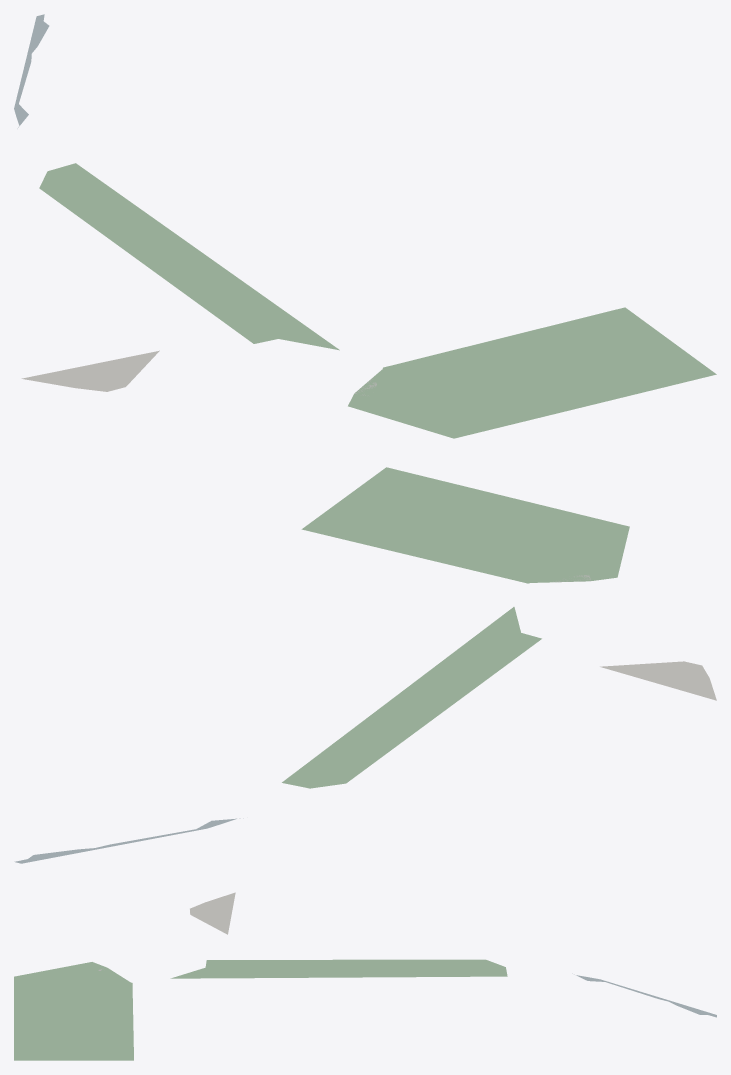
Rendered from 120_125_mid.glb.
The picture shows the model from 3 angles, top to bottom: view 1: azimuth 30°, elevation 25°; view 2: azimuth 150°, elevation 25°; view 3: azimuth 270°, elevation 25°; orthographic projection. The views are drawn at different scales.
Size of the model in its own units: 283 by 0.282 by 500.
